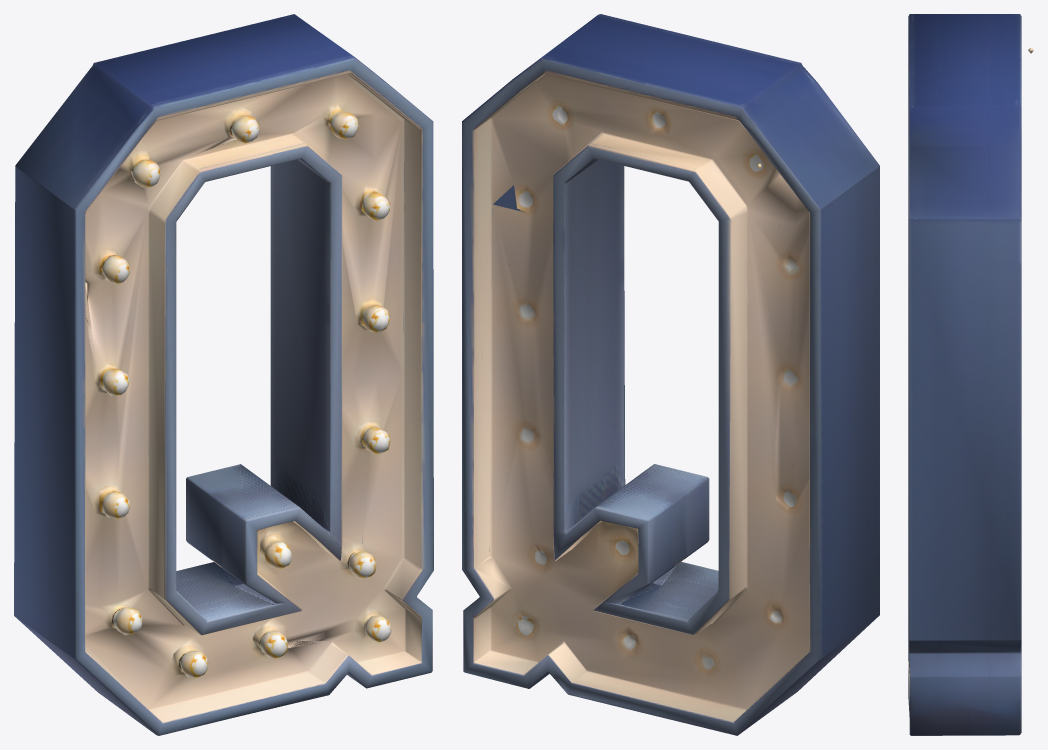
The model's file is Letter_q.glb.
The picture shows the model from 3 angles, left to right: view 1: azimuth 30°, elevation 25°; view 2: azimuth 150°, elevation 25°; view 3: azimuth 270°, elevation 25°; orthographic projection. The views are drawn at different scales.
Parts seen in each view (by area): view 1: Mesh_0.001; view 2: Mesh_0.001; view 3: Mesh_0.001.
Boxes of the visible parts, x1,y1,x2,y2 form: Mesh_0.001: [14, 14, 433, 735]; Mesh_0.001: [462, 14, 879, 735]; Mesh_0.001: [908, 14, 1033, 735].
Size of the model in its own units: 0.5426 by 0.9144 by 0.1746.
1 material, 1 textured.
